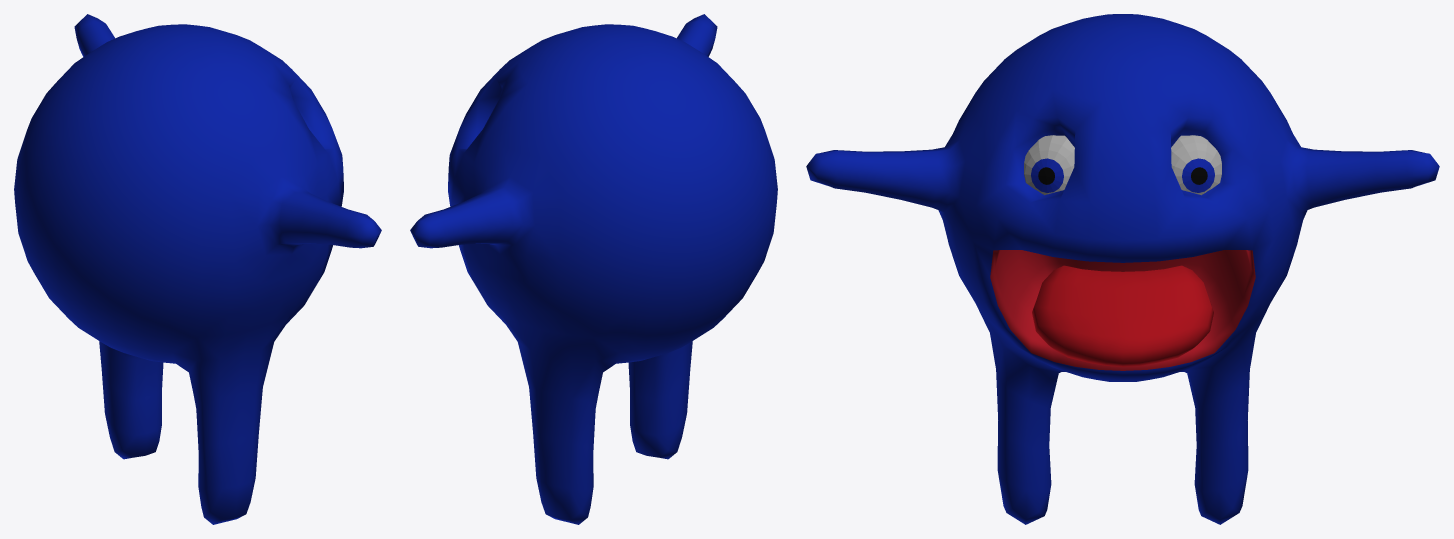
Rendered from monster.dae.
3 renders of one model, left to right at view 1: azimuth 30°, elevation 25°; view 2: azimuth 150°, elevation 25°; view 3: azimuth 270°, elevation 25°, orthographic. The views are drawn at different scales.
Visible parts, largest first — view 1: Sphere; view 2: Sphere; view 3: Sphere, Sphere_002, Sphere_003.
Part boxes in pixels (bbox=[...]): Sphere: bbox=[14, 14, 381, 524]; Sphere: bbox=[410, 14, 777, 524]; Sphere: bbox=[806, 14, 1439, 524]; Sphere_002: bbox=[1032, 265, 1213, 366]; Sphere_003: bbox=[1024, 135, 1221, 195].
Bounding box in the file's own units: 3.66 × 6.47 × 5.51.
